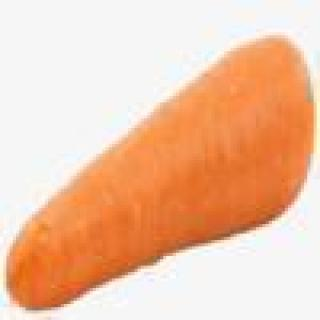Wortel: (17, 27, 318, 308)
